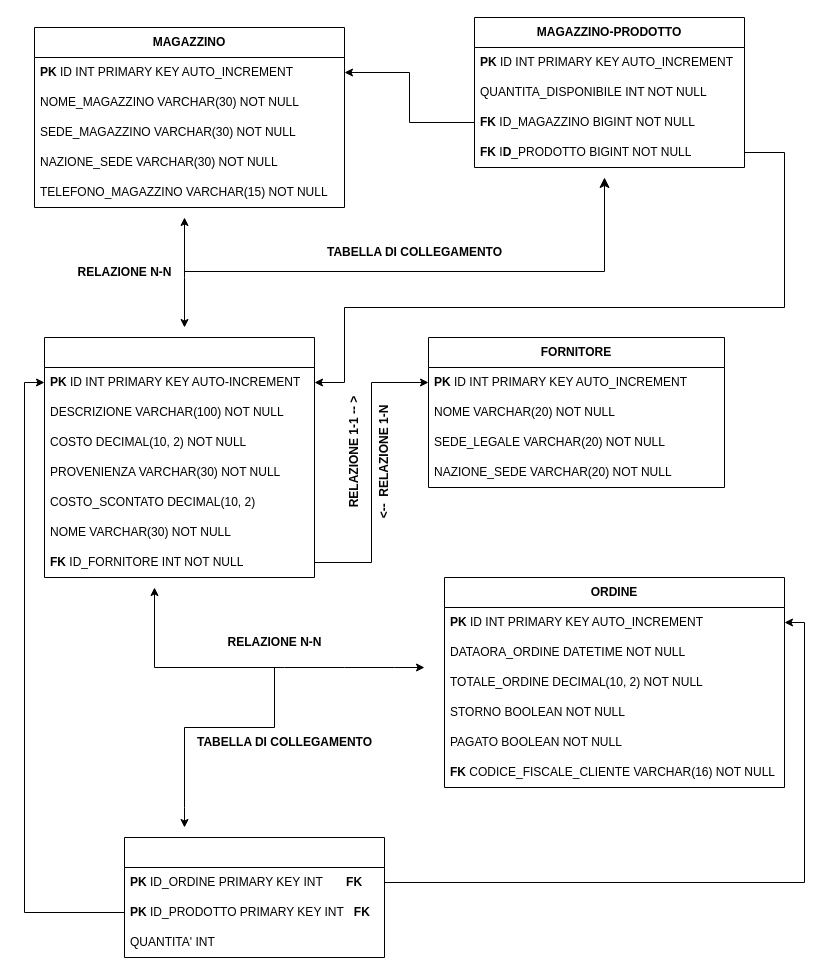
The diagram is 830 pixels wide and 975 high, and some of its shapes have lost their labels. Here are the shapes that lost their labels. From the top down, the box of each, then its label:
(44, 336, 314, 578): PRODOTTO
(124, 836, 384, 958): RIGA D'ORDINE
